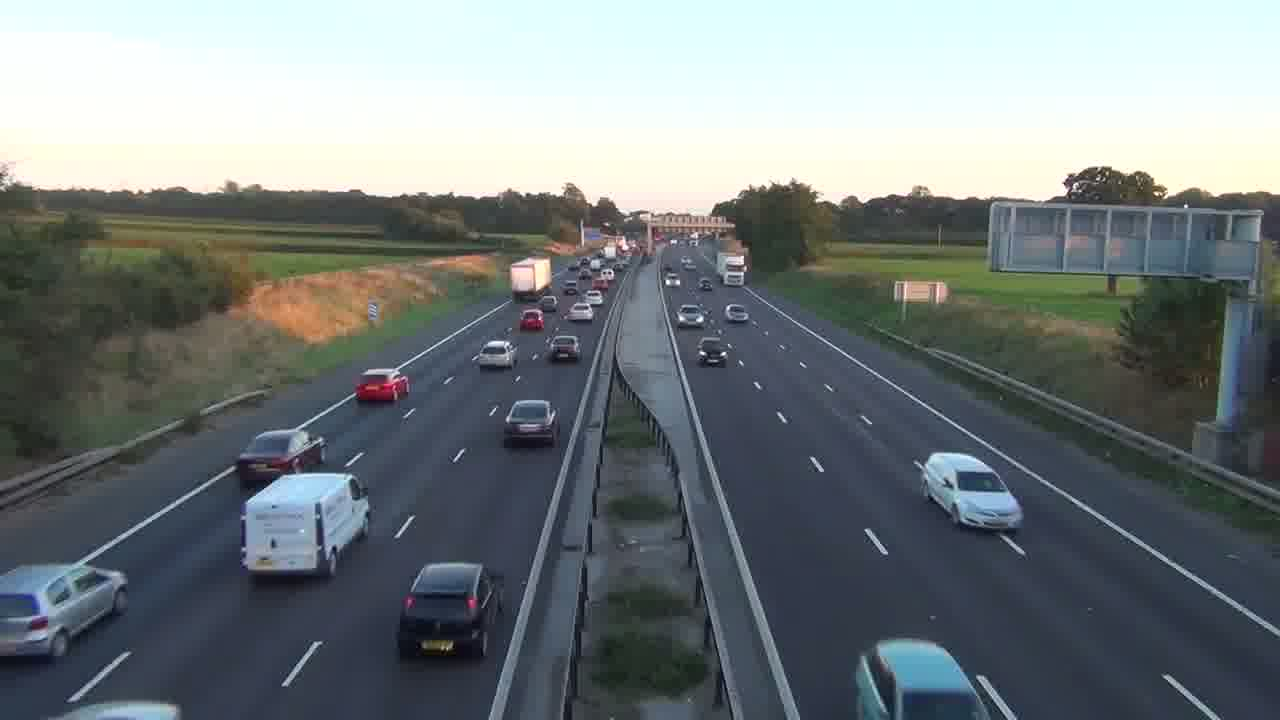car: (0, 561, 129, 661), (854, 636, 992, 719), (396, 560, 504, 659), (913, 451, 1024, 532), (237, 427, 326, 489), (504, 398, 560, 447), (354, 366, 411, 404), (475, 339, 517, 370), (696, 337, 728, 367), (548, 333, 580, 362), (676, 305, 708, 327), (518, 308, 544, 332), (724, 304, 750, 323)
truck: (240, 470, 372, 580), (718, 251, 747, 286)
